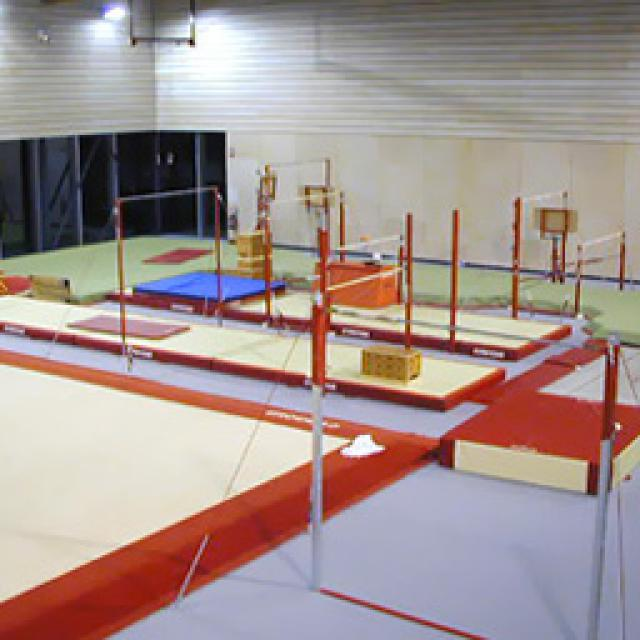asymmetric bars: (510, 188, 620, 318)
box contants: (328, 258, 398, 305)
floor -X: (0, 230, 638, 637)
horizontal bar: (170, 285, 615, 638), (112, 182, 220, 352), (260, 185, 342, 320)
lamp crop: (98, 0, 125, 18)
mat occluded: (0, 352, 418, 635), (0, 288, 502, 410), (128, 265, 570, 358), (438, 385, 638, 492)
wall clock: (150, 0, 637, 280)
